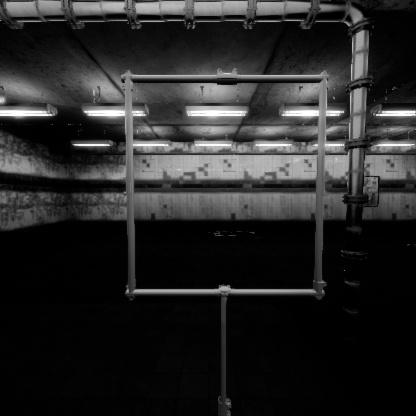gate: (125, 117, 345, 341)
